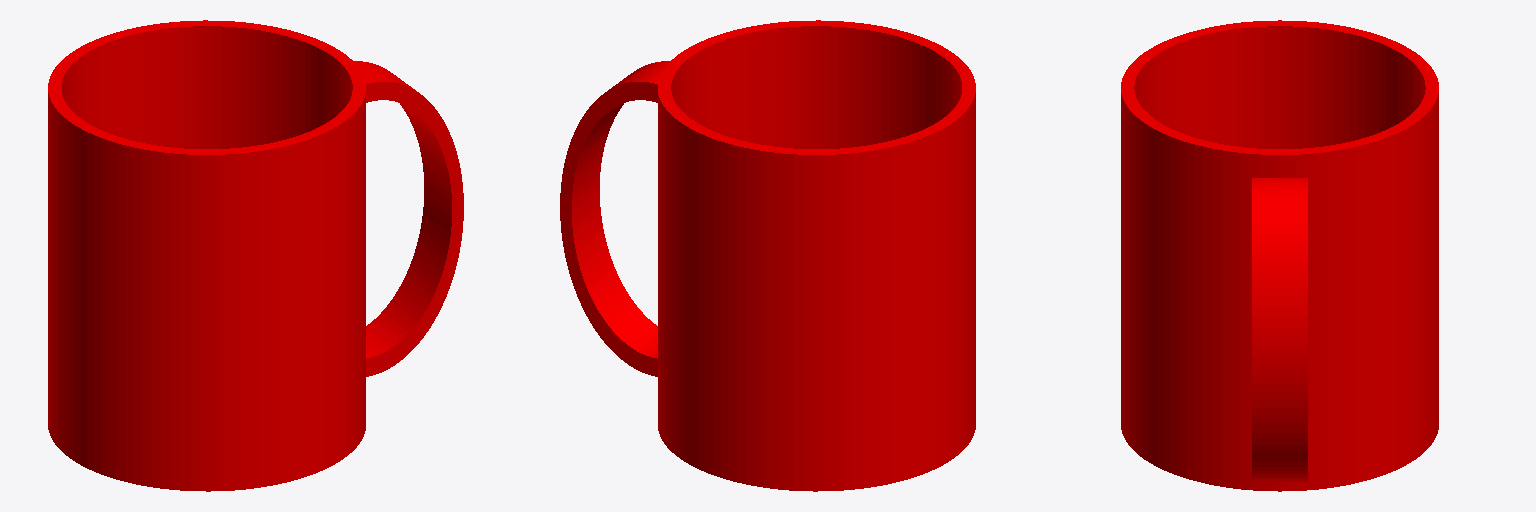
robot.urdf — mug.urdf:
<?xml version="1.0" ?>
<robot name="mug.urdf">
  <link name="baseLink">
    <inertial>
      <origin rpy="0 0 0" xyz="0 0 0"/>
       <mass value=".1"/>
       <inertia ixx="1" ixy="0" ixz="0" iyy="1" iyz="0" izz="1"/>
    </inertial>
    <contact>
      <lateral_friction value="1.0"/>
      <inertia_scaling value="3.0"/>
    </contact>
    <visual>
      <origin rpy="0 0 0" xyz="0 0 0"/>
      <geometry>
        <mesh filename="1.stl" scale="1 1 1" />
      </geometry>
      <material name="red">
        <color rgba="1 0 0 1"/>
      </material>
    </visual>
    <collision>
      <origin rpy="0 0 0" xyz="0 0 0"/>
      <geometry>
        <mesh filename="1_convex.obj" scale="1 1 1" />
      </geometry>
    </collision>
  </link>
</robot>

--- Render facts (derived) ---
3 views of the same robot in one strip: view 1: azimuth 30°, elevation 25°; view 2: azimuth 150°, elevation 25°; view 3: azimuth 270°, elevation 25° (orthographic).
Robot: mug.urdf — 1 links, 0 joints (none); root link baseLink; default pose: every joint at zero.
Links seen in each view (by area): view 1: baseLink; view 2: baseLink; view 3: baseLink.
Boxes of the visible links, box(x1,y1,x2,y2) form: baseLink: box(48, 20, 463, 491); baseLink: box(560, 20, 975, 491); baseLink: box(1121, 20, 1438, 491).
Size in the robot's own frame: 0.1626 by 0.1178 by 0.1374 metres.
Meshes: 1 distinct files referenced, 1 mesh visuals loaded (1 binary STL).